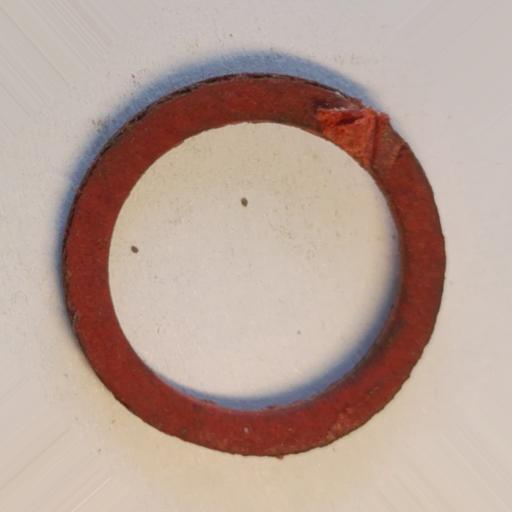defect: (316, 100, 411, 177)
